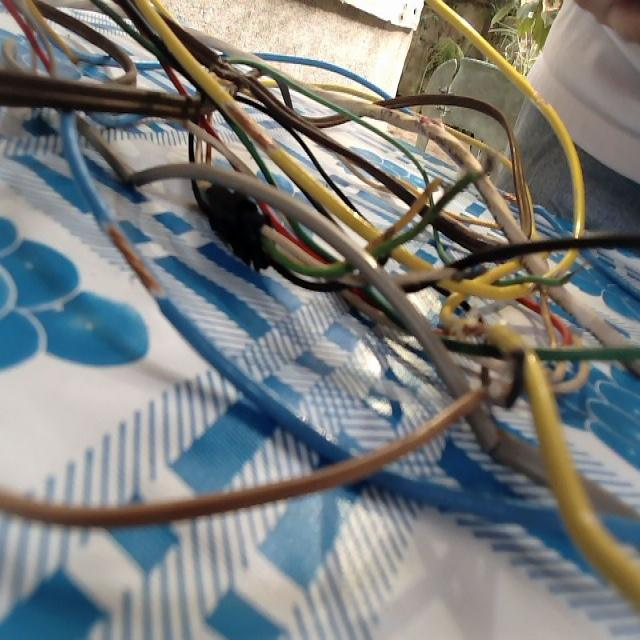-: (103, 214, 170, 298), (451, 317, 497, 343)
